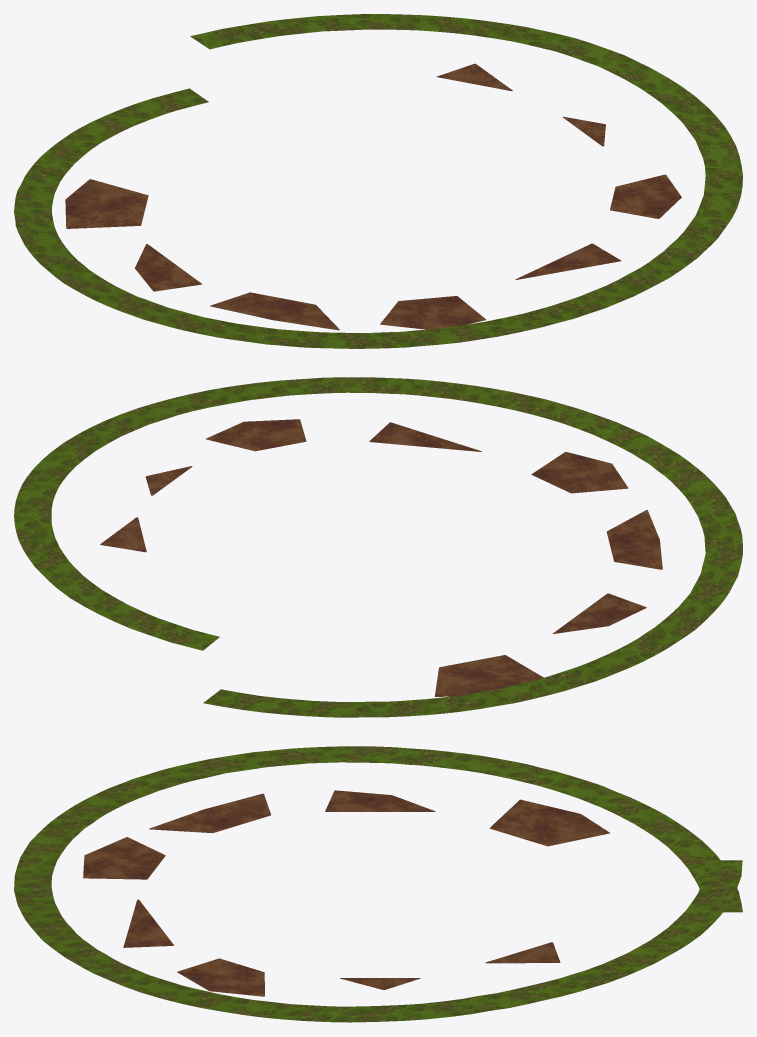
The model's file is mesh_tut_planter_all.glb.
3 views of the same model, one above another, from view 1: azimuth 30°, elevation 25°; view 2: azimuth 150°, elevation 25°; view 3: azimuth 270°, elevation 25° (orthographic).
Visible parts, largest first — view 1: mesh_tut_planter_all; view 2: mesh_tut_planter_all; view 3: mesh_tut_planter_all.
Boxes of the visible parts, x1=… form: mesh_tut_planter_all: x1=14, y1=14, x2=742, y2=348; mesh_tut_planter_all: x1=14, y1=377, x2=742, y2=717; mesh_tut_planter_all: x1=14, y1=746, x2=742, y2=1022.
Size of the model in its own units: 18.8 by 1.54 by 18.8.
Materials: 1 (1 with a texture image).
